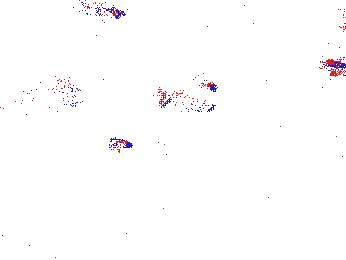X-ray fish: (12, 74, 86, 115)
red belly glassfish: (191, 68, 222, 91), (104, 130, 134, 152)
redtail glassfish: (154, 82, 218, 115), (61, 1, 128, 27)
